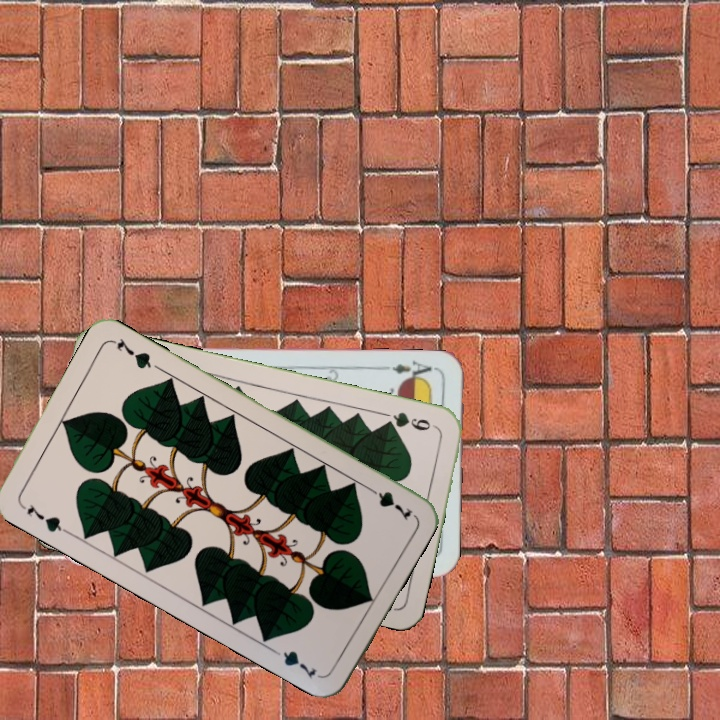EA: (388, 356, 439, 384)
G7: (361, 481, 415, 523), (17, 500, 70, 536)
G9: (380, 408, 439, 434)
